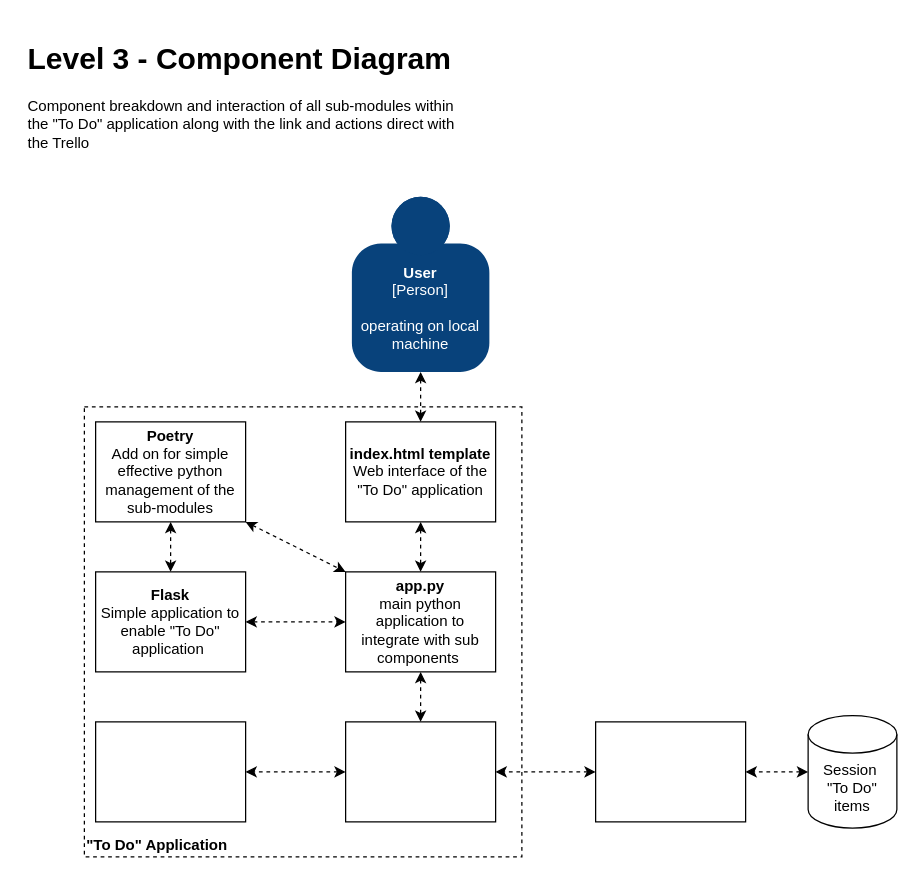
Some shapes in this 919 by 879 pixel diagram are drawn without their labels. The centre of each missing label's shape, as x and y in pixels:
".env Key Variables Provides security credentials to access Trello board" belongs at [170,771].
"Trello Hosted Session Integrates through API to host items within Trello board" belongs at [670,771].
"trello_items.py Establishes the trello commands and initiates the REST" belongs at [420,771].
